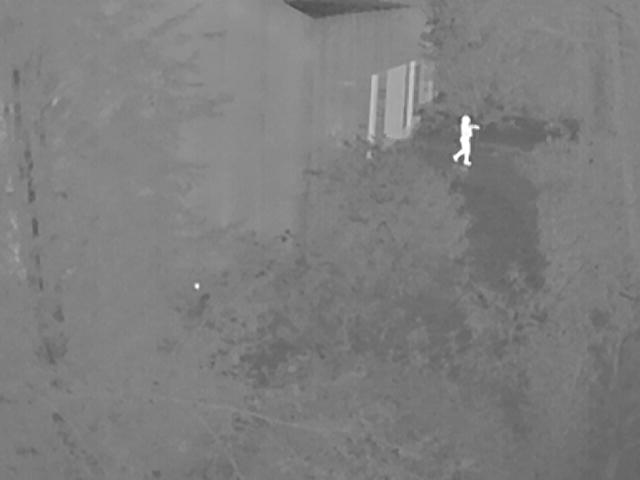person: (453, 114, 480, 165)
